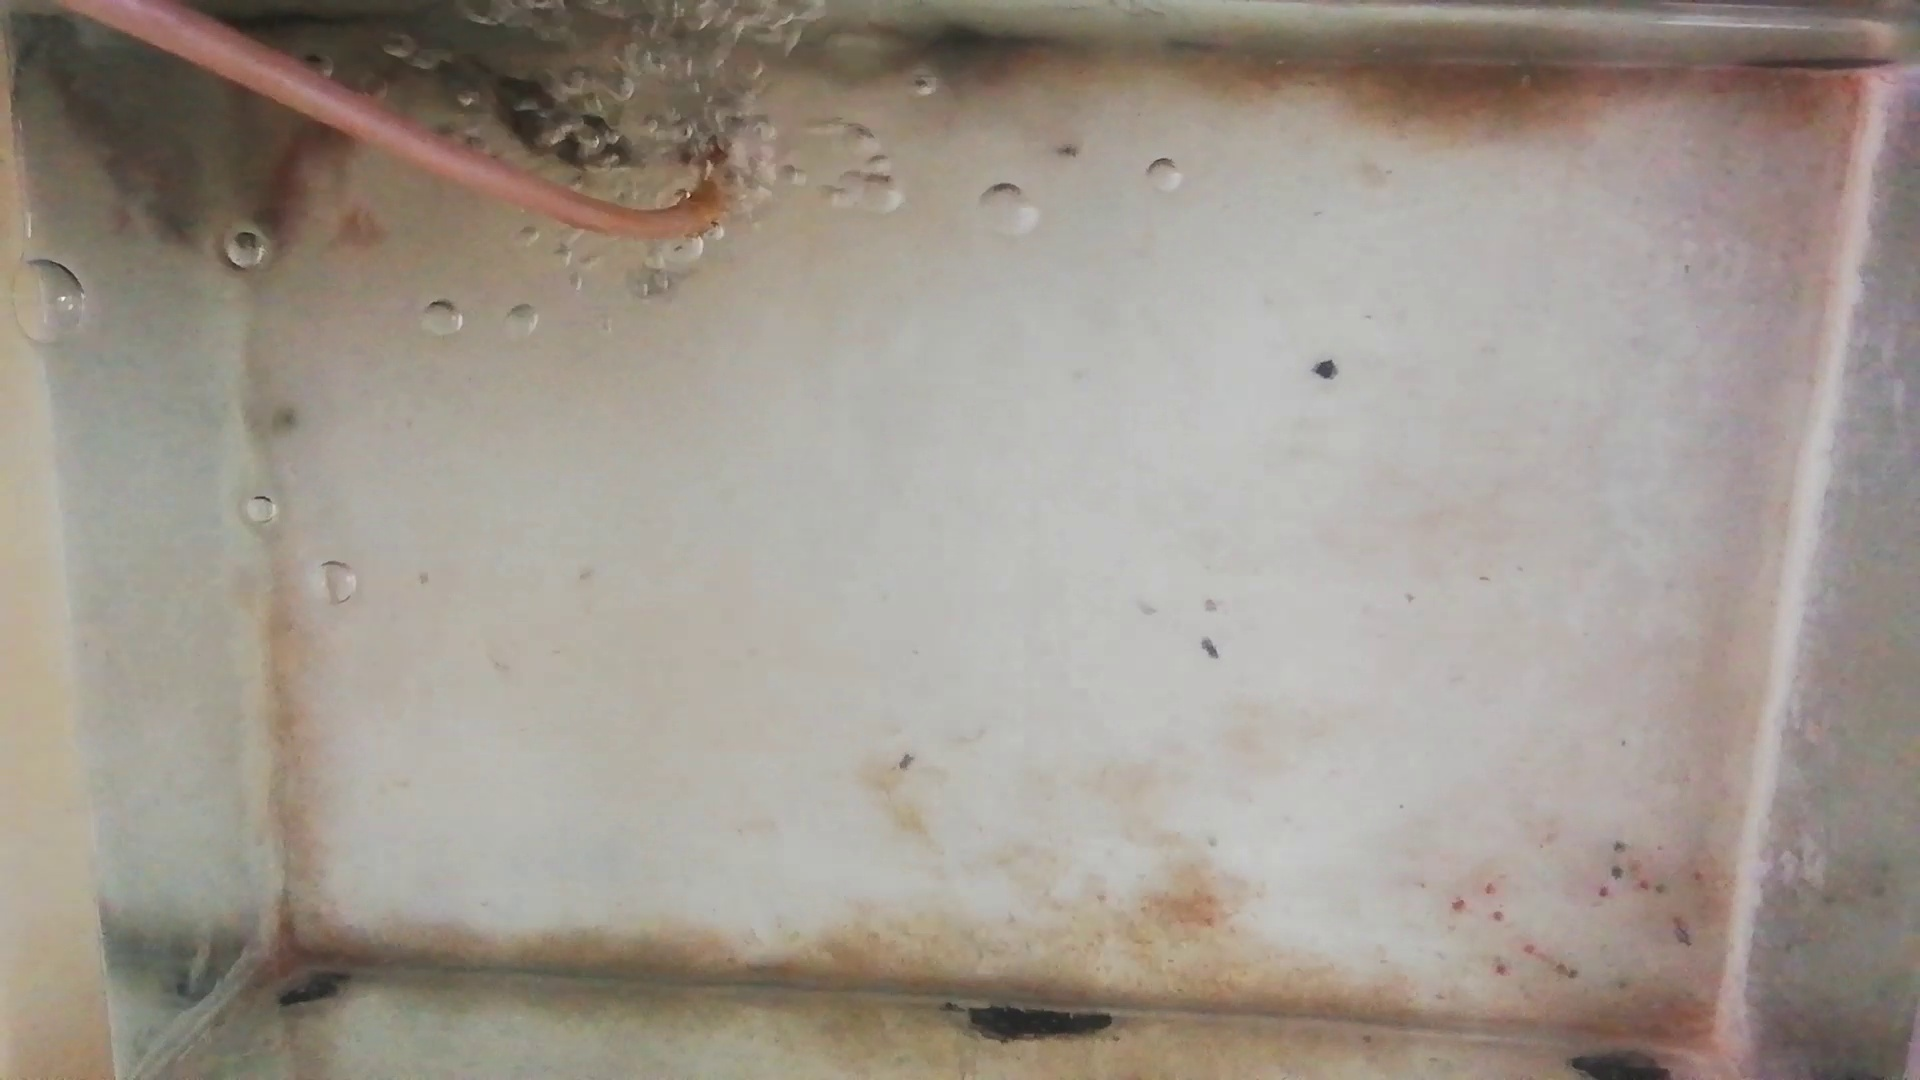fish: (443, 63, 640, 173), (237, 123, 355, 268)
